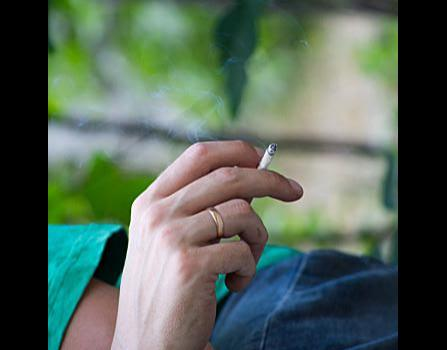Cigarette: (257, 142, 278, 172)
